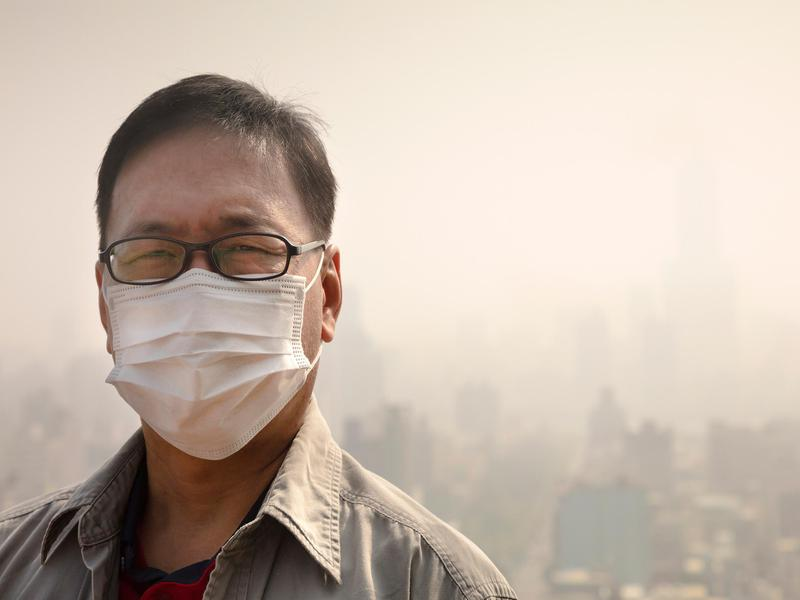with_mask: (97, 120, 329, 463)
